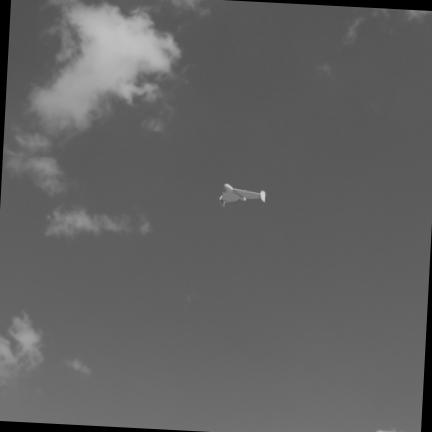Shahed: (220, 184, 265, 206)
